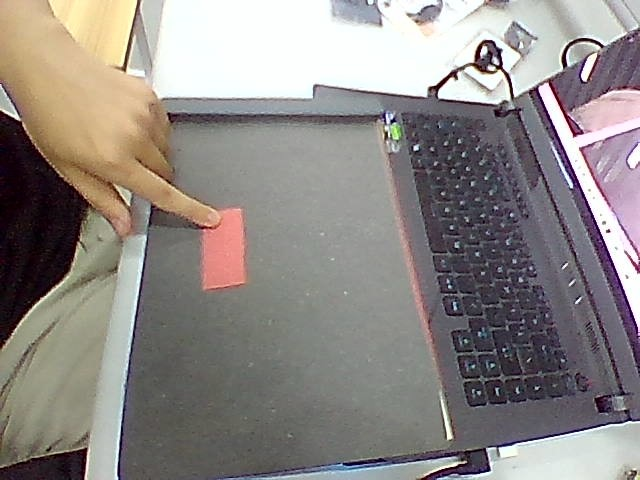card: (202, 210, 244, 290)
